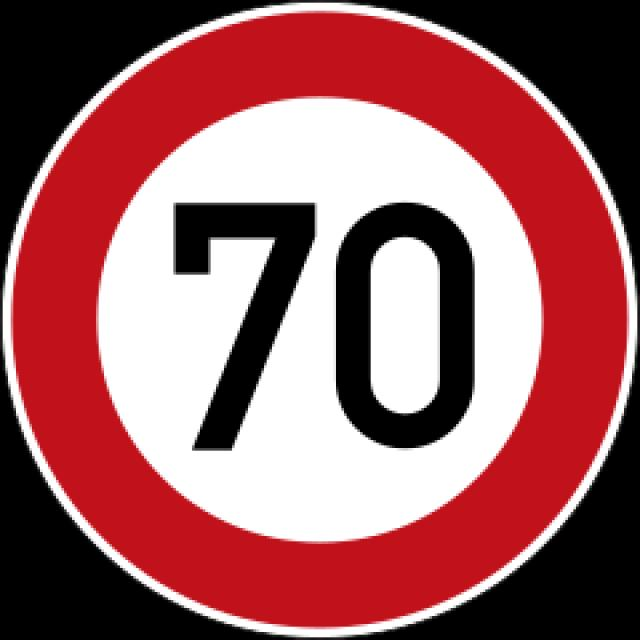Speed Limit -70-: (102, 155, 510, 471)
